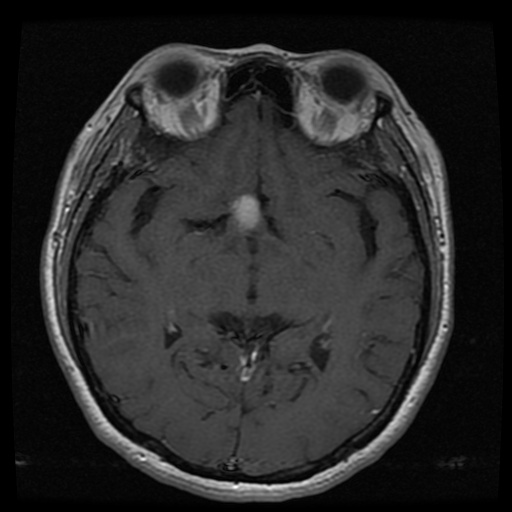pituitary: (229, 194, 261, 230)
